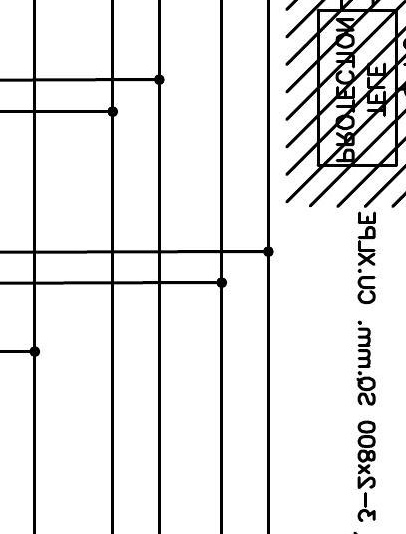tele_protection: (314, 6, 401, 170)
